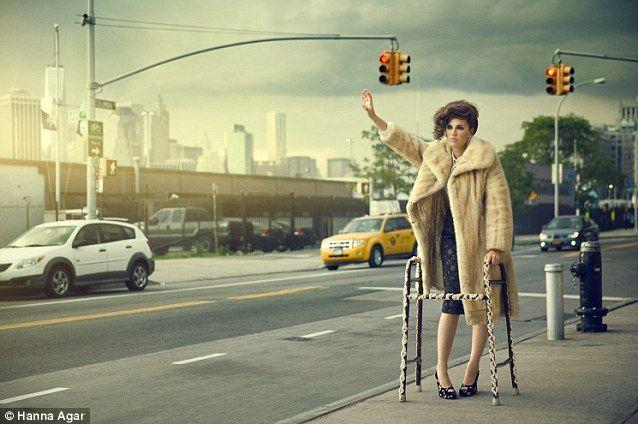walking_frame: (361, 89, 521, 406)
